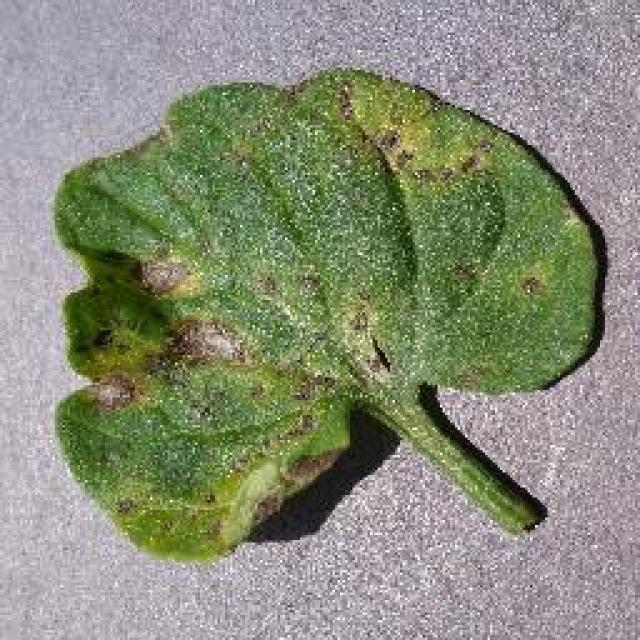Tomato___Septoria_leaf_spot: (58, 70, 598, 558)
